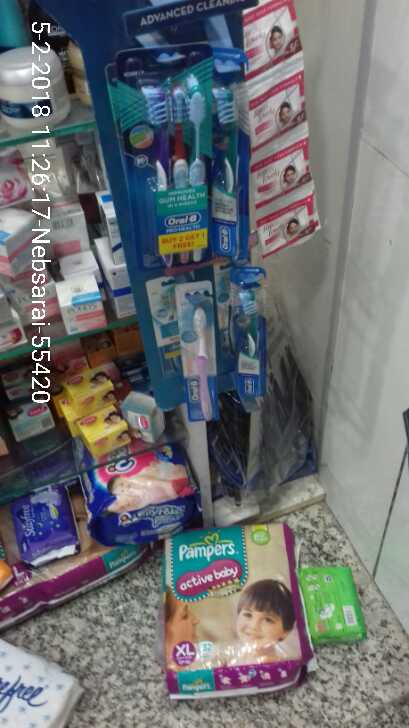pharmacy: (163, 521, 307, 689), (141, 83, 210, 262), (176, 295, 222, 421), (237, 275, 272, 404)
